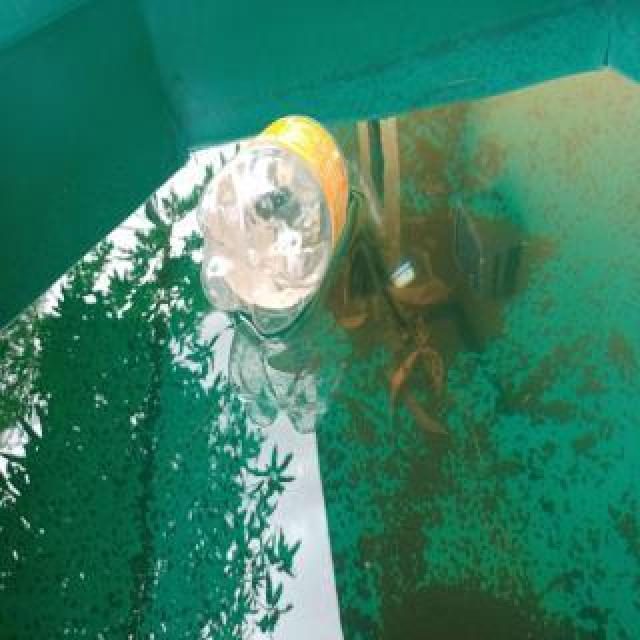bottle: (198, 112, 352, 344)
